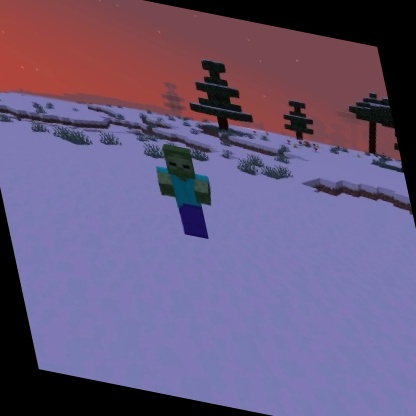zombie: (145, 137, 225, 246)
